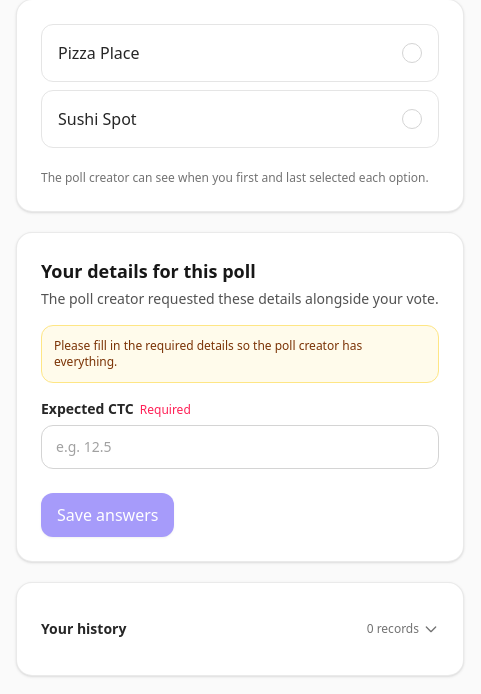
Test case: PollPage › required-details note appears when incomplete and disappears once saved
(page scrolled)
Expected: the text "Please fill in the required details so the poll creator has everything." is shown, [41,325,439,383]
Type "20" into the field labelled "Expected CTC" at (240, 447), box [41,425,439,469]
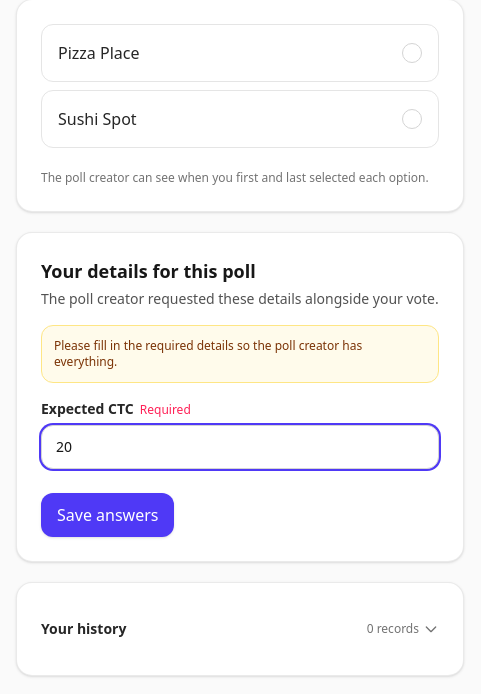
Click the button "Save answers" at (108, 515), box [41,493,174,537]
(page scrolled)
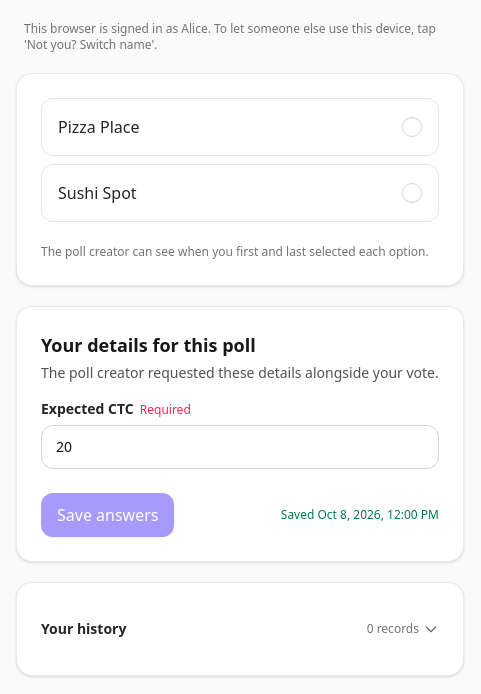
Expected: the text "Please fill in the required details so the poll creator has everything." is gone
